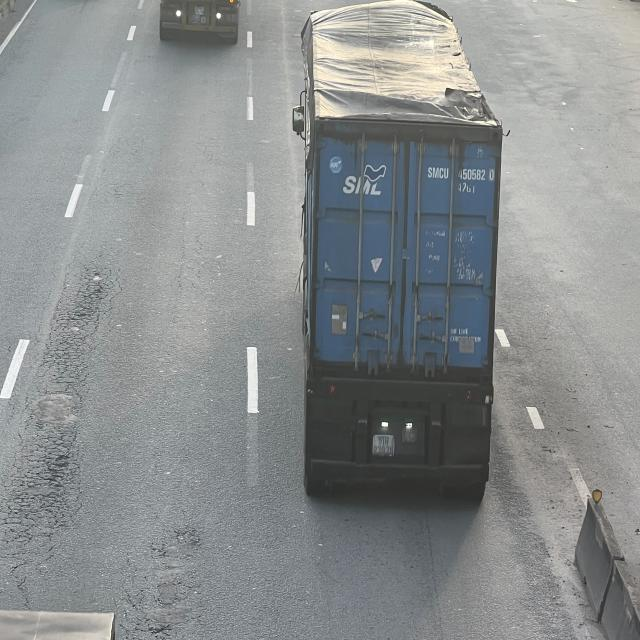container: (298, 2, 506, 504)
